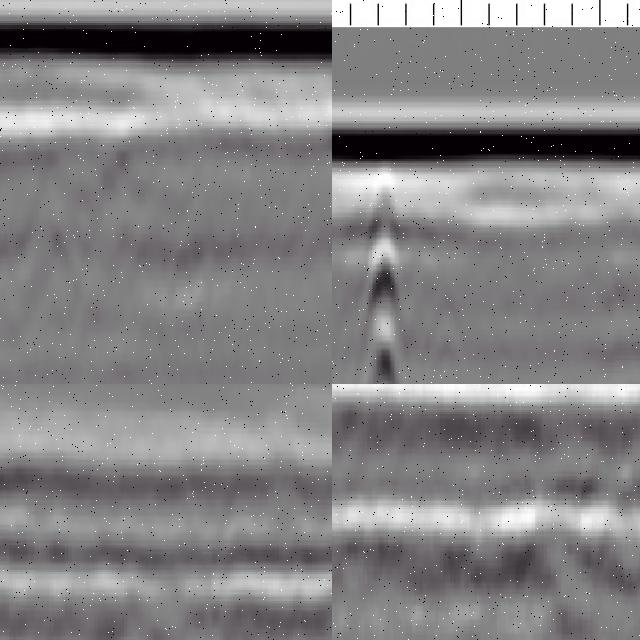crack: (370, 165, 399, 385)
